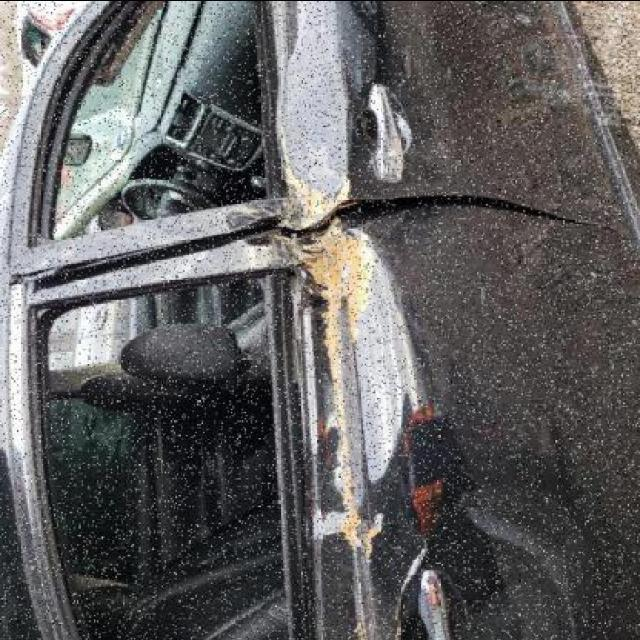doorouter-dent: (271, 222, 639, 640), (274, 1, 640, 228)
pillar-dent: (3, 196, 302, 312)
